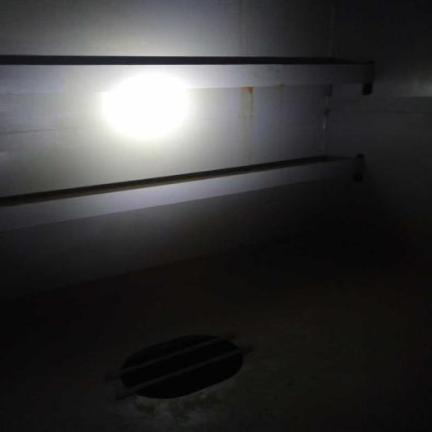besi_tidak_karat: (0, 158, 357, 231), (0, 0, 328, 57), (0, 56, 372, 94)
